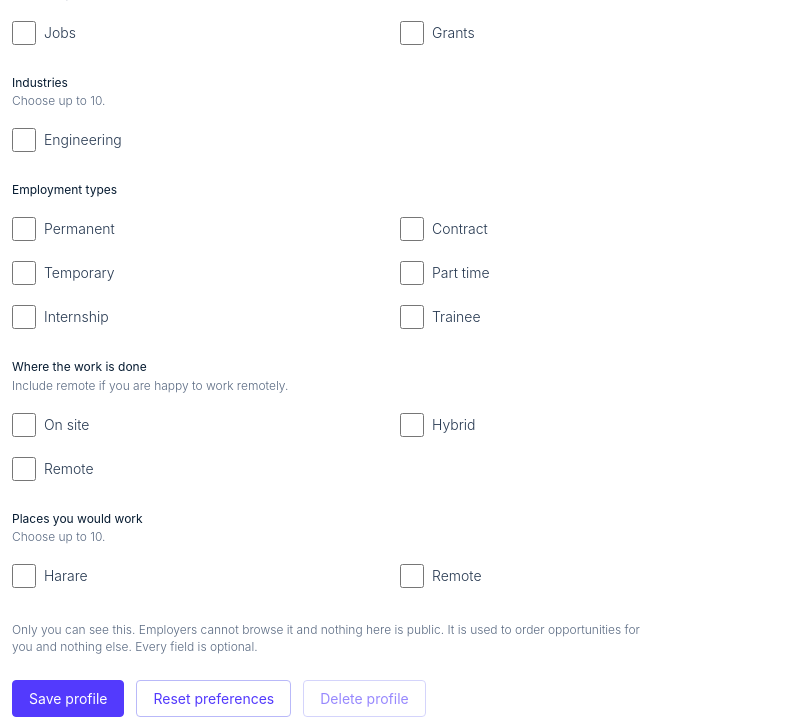
profile form › can save an empty profile and show field errors
The image size is (789, 717).
(page scrolled)
Click the button "Save profile" at (68, 698), box [12,680,124,716]
(page scrolled)
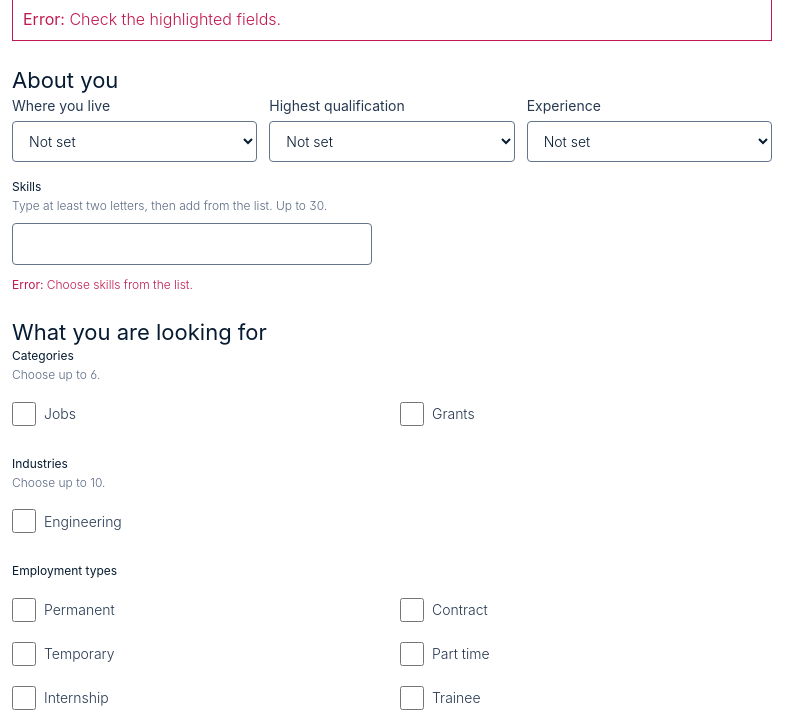
Check: the text "Error: Choose skills from the list." is shown, box [12,277,193,292]
